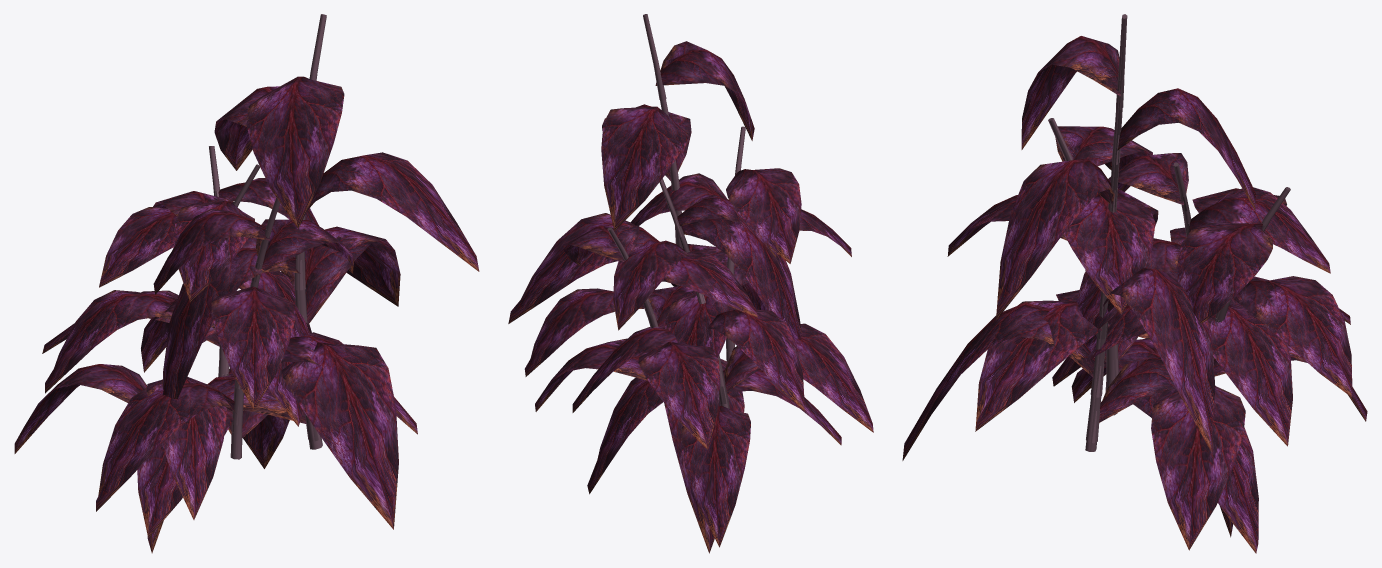
Rendered from broadgrass_02.glb.
3 views of the same model, side by side, from view 1: azimuth 30°, elevation 25°; view 2: azimuth 150°, elevation 25°; view 3: azimuth 270°, elevation 25° (orthographic). The views are drawn at different scales.
Visible parts, largest first — view 1: export; view 2: export; view 3: export.
Part boxes in pixels (left/top/right/bottom): export: left=14, top=14, right=479, bottom=553; export: left=508, top=14, right=873, bottom=553; export: left=902, top=14, right=1367, bottom=553.
Size of the model in its own units: 0.7913 by 1.15 by 0.8284.
Materials: 2 (2 with a texture image).
